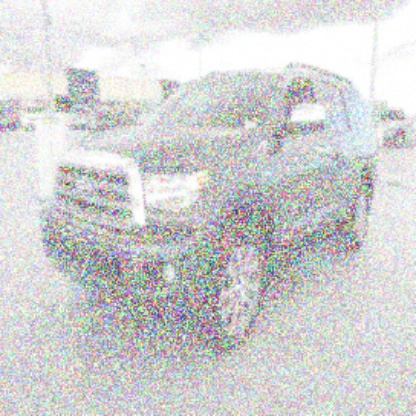Vehicle: (40, 63, 382, 351)
